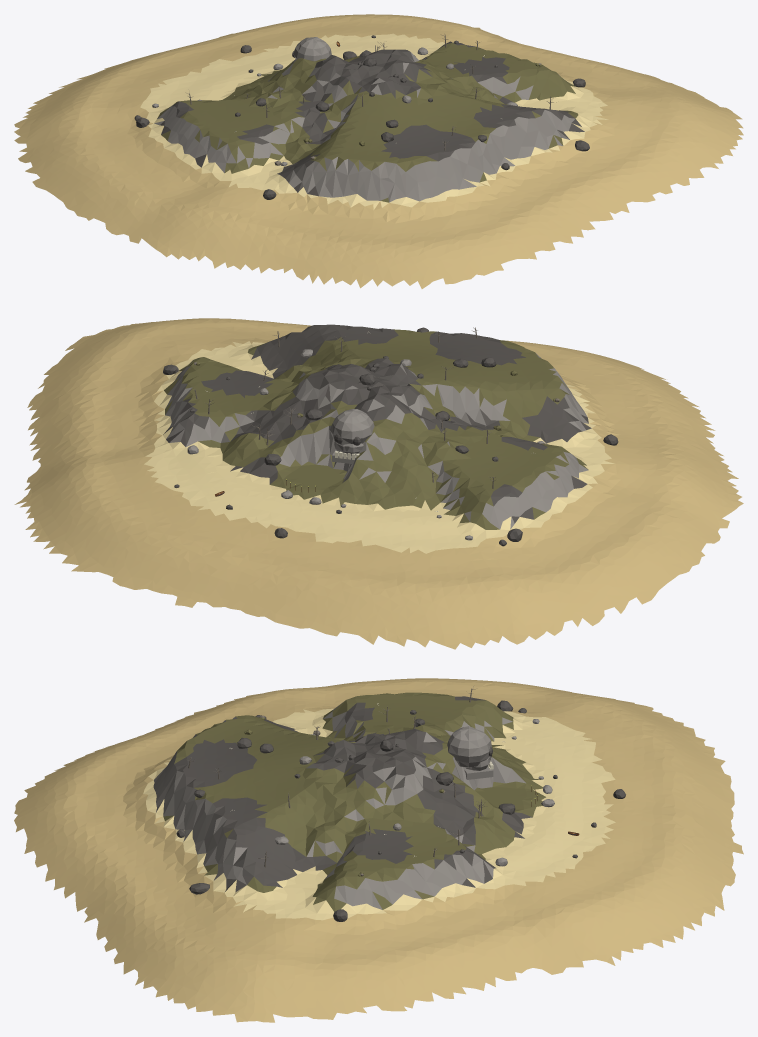
Rendered from Island_Skull.fbx.
3 renders of one model, top to bottom at view 1: azimuth 30°, elevation 25°; view 2: azimuth 150°, elevation 25°; view 3: azimuth 270°, elevation 25°, orthographic. The views are drawn at different scales.
Parts seen in each view (by area): view 1: Terrain, SkullRock; view 2: Terrain, SkullRock; view 3: Terrain, SkullRock.
Part boxes in pixels (x1,y1,x2,y2): Terrain: (14,14,743,288); SkullRock: (292,37,331,61); Terrain: (14,318,743,649); SkullRock: (330,409,374,463); Terrain: (14,678,743,1022); SkullRock: (447,726,493,779).
Bounding box in the file's own units: 277 × 41.38 × 249.
